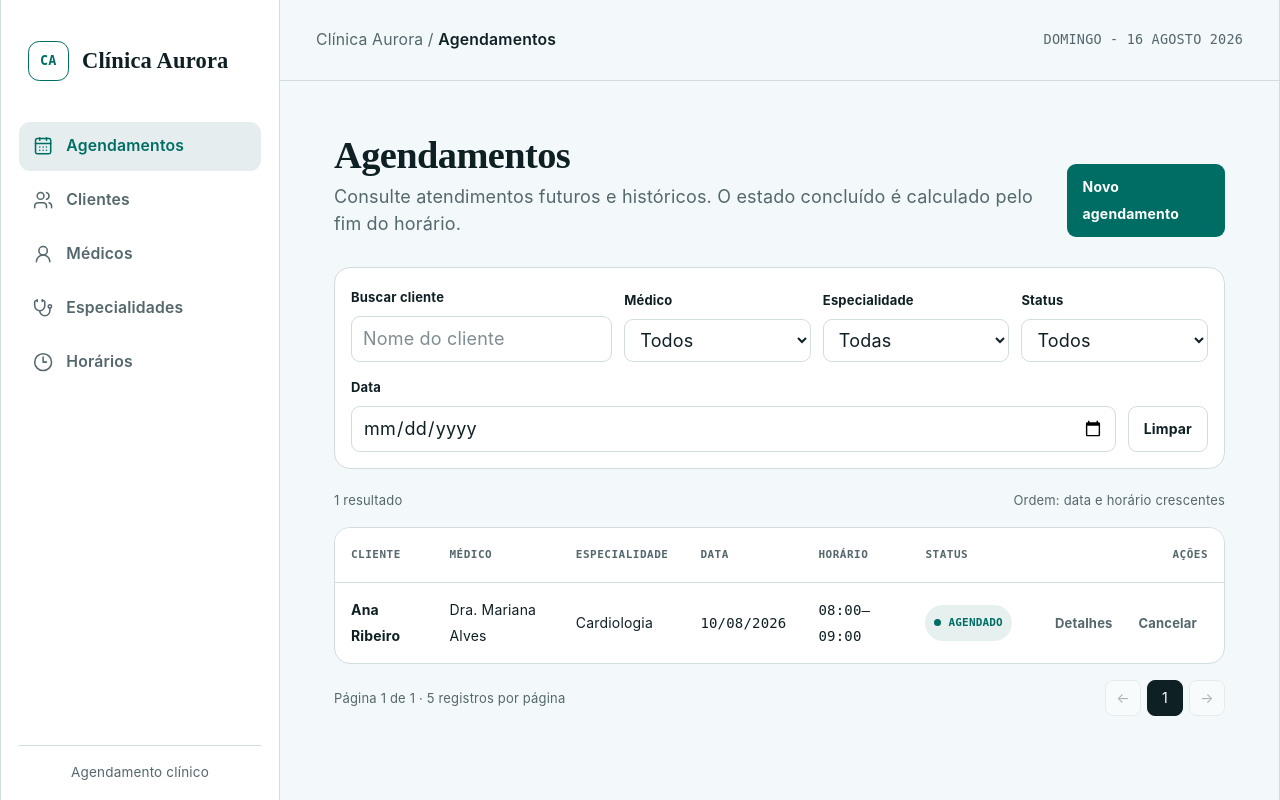
Test: Dashboard/Agendamentos — contrato do protótipo › preserva filtros, tabela com overflow, paginação e modal
Expected: the text "Ana Ribeiro" is shown, [351,601,400,644]
Expected: the field labelled "Buscar cliente" is shown, [351,316,612,362]
Click the button "Cancelar".
click(1168, 623)  # box [1128,603,1208,643]
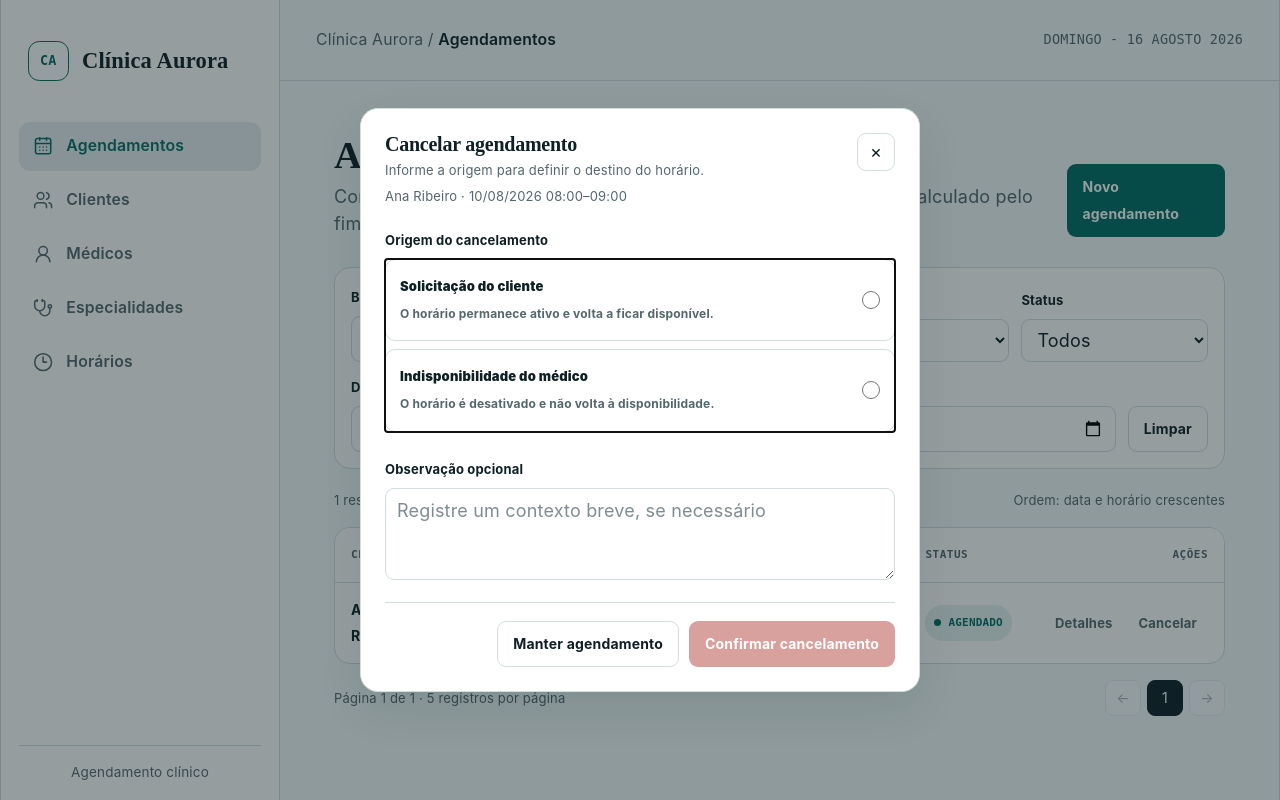
Result: the text "Ana Ribeiro · 10/08/2026 08:00–09:00" is shown at [385,188,627,204]
